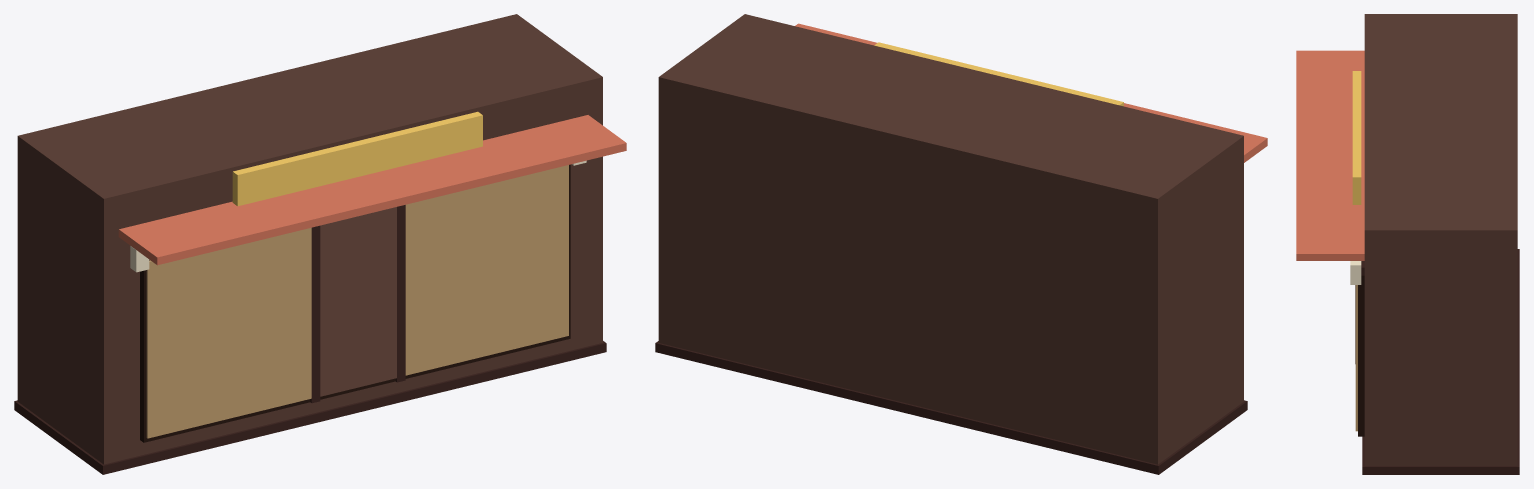
Rendered from local_comercial.gltf.
3 views of the same model, side by side, from view 1: azimuth 30°, elevation 25°; view 2: azimuth 150°, elevation 25°; view 3: azimuth 270°, elevation 25° (orthographic). The views are drawn at different scales.
Visible parts, largest first — view 1: cuerpo, cristal_izq, cristal_der, toldo, puerta, rotulo, zocalo, hueco_vitrina, montante_izq, montante_der; view 2: cuerpo, zocalo, toldo, rotulo; view 3: cuerpo, toldo, zocalo, rotulo, hueco_vitrina, cristal_der, farol_der.
Part boxes in pixels (bbox=[...]): cuerpo: bbox=[17, 14, 602, 464]; cristal_izq: bbox=[146, 227, 311, 438]; cristal_der: bbox=[405, 165, 568, 375]; toldo: bbox=[118, 115, 626, 265]; puerta: bbox=[320, 207, 396, 396]; rotulo: bbox=[232, 111, 482, 206]; zocalo: bbox=[14, 341, 606, 474]; hueco_vitrina: bbox=[140, 164, 570, 442]; montante_izq: bbox=[310, 225, 320, 403]; montante_der: bbox=[395, 205, 405, 382]; cuerpo: bbox=[658, 14, 1243, 464]; zocalo: bbox=[655, 341, 1247, 474]; toldo: bbox=[795, 23, 1267, 162]; rotulo: bbox=[874, 42, 1123, 106]; cuerpo: bbox=[1364, 14, 1517, 465]; toldo: bbox=[1296, 50, 1364, 260]; zocalo: bbox=[1362, 249, 1519, 474]; rotulo: bbox=[1352, 71, 1361, 204]; hueco_vitrina: bbox=[1358, 275, 1364, 436]; cristal_der: bbox=[1355, 285, 1357, 431]; farol_der: bbox=[1350, 261, 1361, 284].
Bounding box in the file's own units: 4.72 × 2.46 × 2.04.
